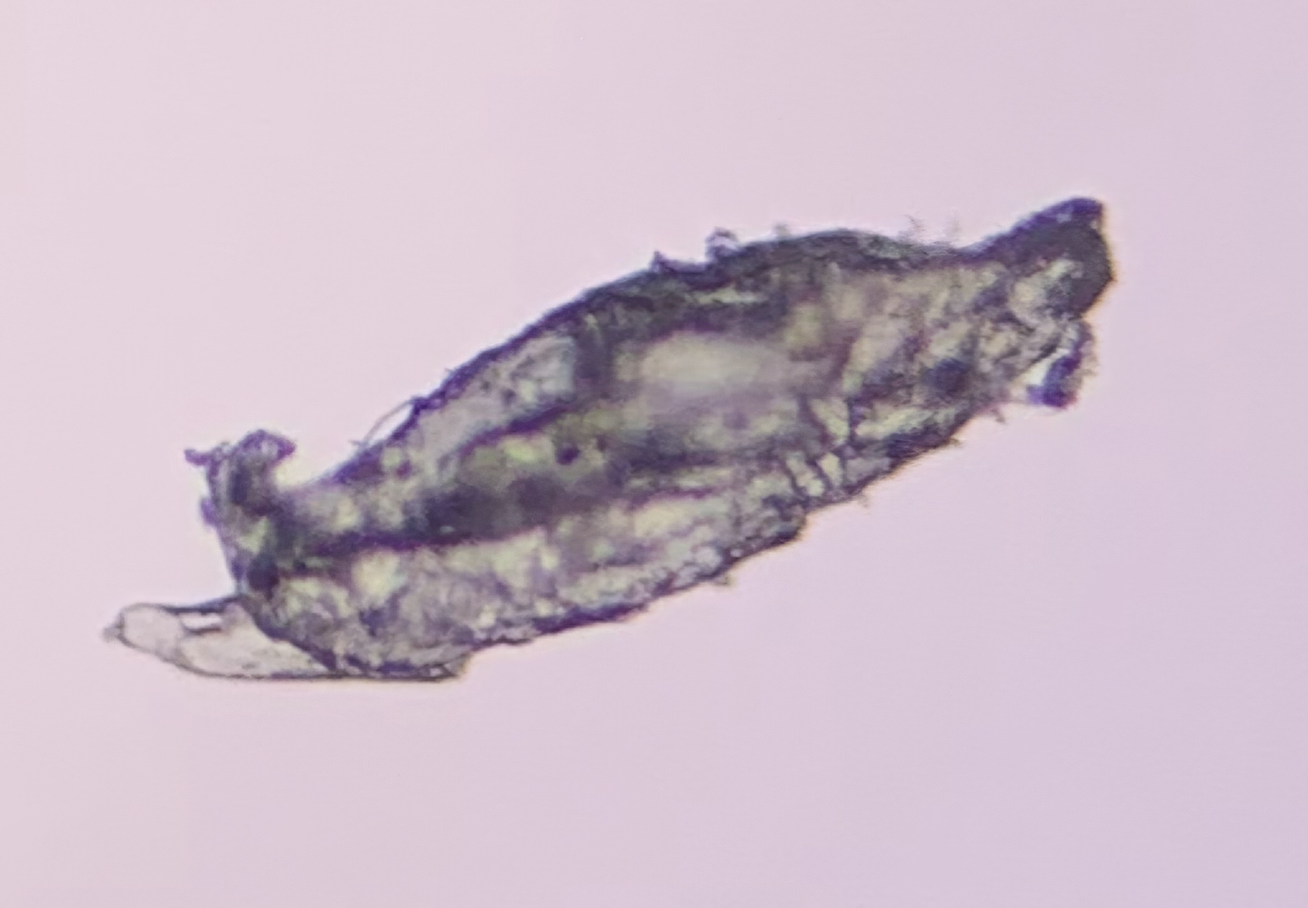microplastic: (102, 199, 1116, 679)
